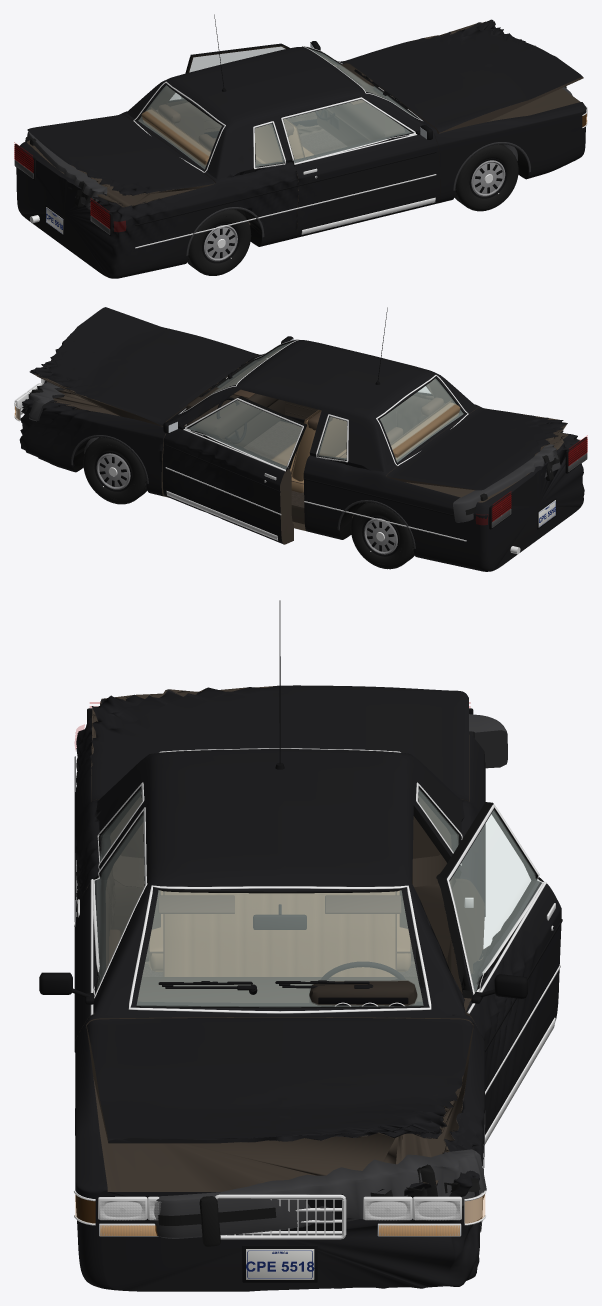
Rendered from coupe84_damaged.glb.
3 views of the same model, one above another, from view 1: azimuth 30°, elevation 25°; view 2: azimuth 150°, elevation 25°; view 3: azimuth 270°, elevation 25° (orthographic). The views are drawn at different scales.
Parts seen in each view (by area): view 1: Body, Hood, Door_FR, Trunk, Interior, Glass, Glass_FR, Wheel_FR_mesh, Wheel_RR_mesh, Trim_FR, Trim, Ends (+5 smaller); view 2: Body, Hood, Door_FL, Trunk, Interior, Glass, Glass_FL, Wheel_FL_mesh, Wheel_RL_mesh, Trim_FL, Bumper_R, Trim (+4 smaller); view 3: Body, Hood, Glass, Interior, Trunk, Door_FL, Bumper_F, Ends, Glass_FL, Glass_FR, Door_FR, Trim_FL (+6 smaller).
Boxes of the visible parts, x1,y1,x2,y2 form: Body: (16,46,586,278); Hood: (343,19,583,133); Door_FR: (280,96,439,237); Trunk: (27,114,214,195); Interior: (141,63,409,167); Glass: (133,46,422,172); Glass_FR: (281,97,413,165); Wheel_FR_mesh: (454,144,518,211); Wheel_RR_mesh: (187,209,251,275); Trim_FR: (281,97,436,234); Trim: (135,14,530,255); Ends: (14,107,587,236); Body: (19,340,584,571); Hood: (29,307,258,426); Door_FL: (162,396,306,544); Trunk: (386,407,567,490); Interior: (186,363,460,492); Glass: (178,339,468,465); Glass_FL: (186,398,304,472); Wheel_FL_mesh: (83,437,147,504); Wheel_RL_mesh: (350,502,414,569); Trim_FL: (163,398,303,540); Bumper_R: (453,444,560,522); Trim: (71,307,466,548); Body: (75,717,484,1291); Hood: (87,1017,472,1143); Glass: (98,748,458,1013); Interior: (137,890,422,1006); Trunk: (91,685,468,801); Door_FL: (436,802,561,1134); Bumper_F: (150,1149,486,1246); Ends: (74,708,486,1282); Glass_FL: (445,810,543,992); Glass_FR: (90,815,144,988); Door_FR: (75,806,148,1040); Trim_FL: (447,804,562,1145).
Bounding box in the file's own units: 5.11 × 2.15 × 2.33.
34 materials, 5 textured.
